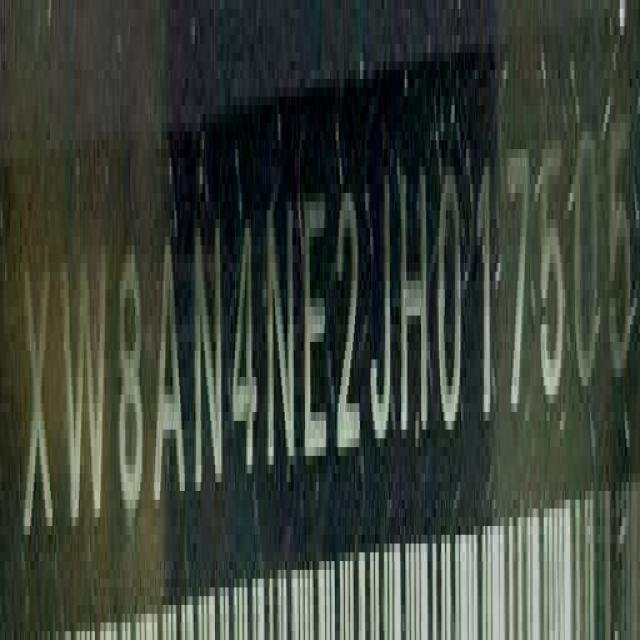0: (436, 168, 465, 446), (572, 137, 602, 404)
1: (480, 156, 499, 438)
2: (339, 188, 366, 468)
4: (230, 209, 258, 494)
6: (538, 141, 564, 416), (610, 115, 634, 388)
7: (509, 149, 531, 432)
8: (117, 244, 145, 526)
A: (151, 225, 186, 518)
E: (306, 194, 332, 479)
H: (402, 166, 431, 450)
J: (370, 179, 392, 461)
N: (194, 217, 227, 503), (268, 195, 298, 484)
W: (64, 254, 108, 546)
X: (20, 262, 54, 558)
